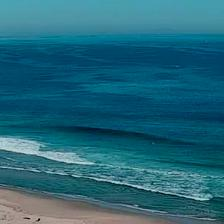surfer: (184, 150, 194, 153), (150, 141, 154, 145)
